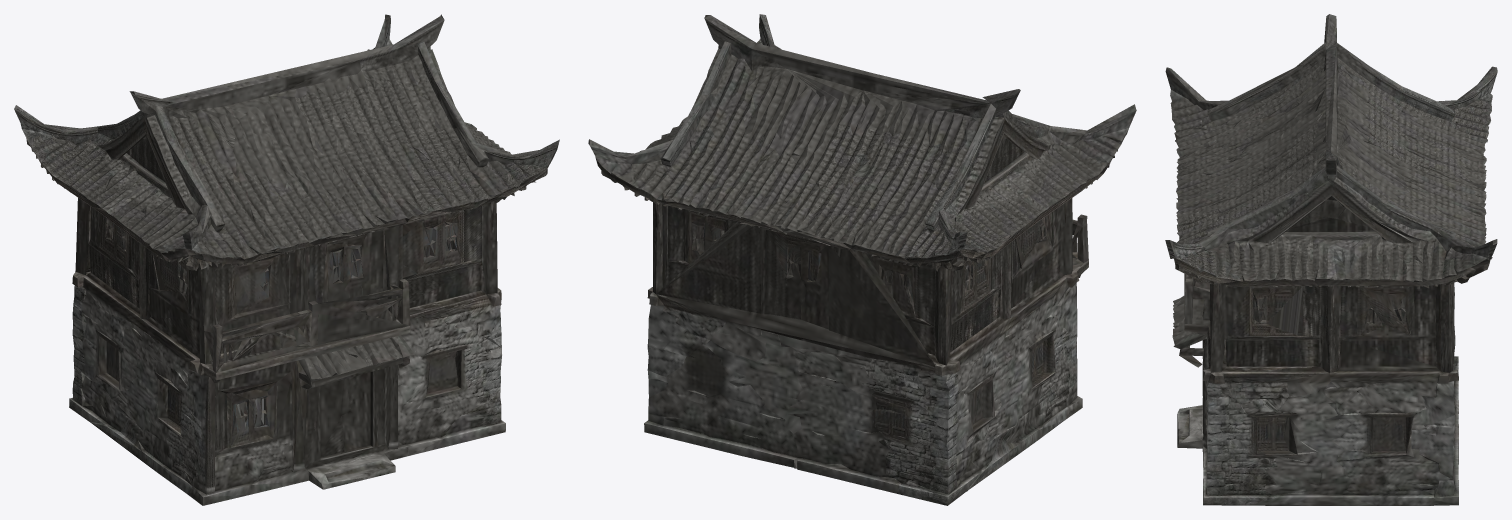
Rendered from calodanhouse.glb.
3 renders of one model, left to right at view 1: azimuth 30°, elevation 25°; view 2: azimuth 150°, elevation 25°; view 3: azimuth 270°, elevation 25°, orthographic. The views are drawn at different scales.
Parts seen in each view (by area): view 1: calodanhouse-centred; view 2: calodanhouse-centred; view 3: calodanhouse-centred.
Part boxes in pixels (x1,y1,x2,y2): calodanhouse-centred: [14, 14, 559, 505]; calodanhouse-centred: [588, 14, 1136, 505]; calodanhouse-centred: [1165, 14, 1497, 505].
Bounding box in the file's own units: 14 × 13.01 × 11.22.
Materials: 1 (1 with a texture image).
